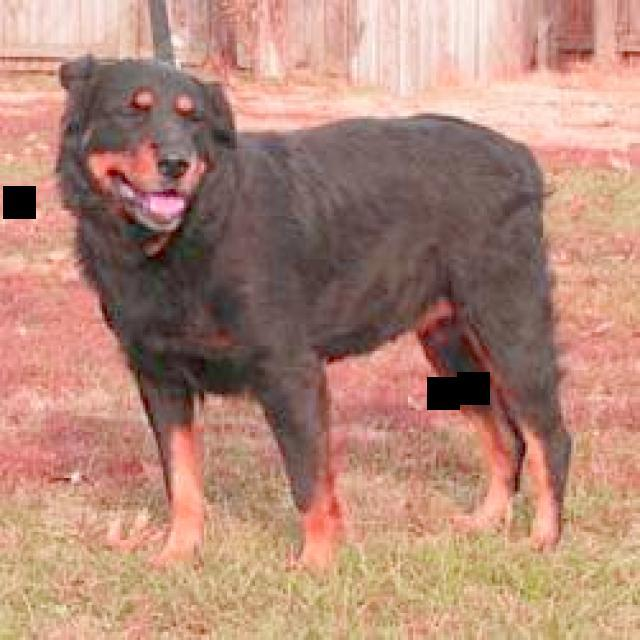adult_dog: (48, 57, 577, 574)
